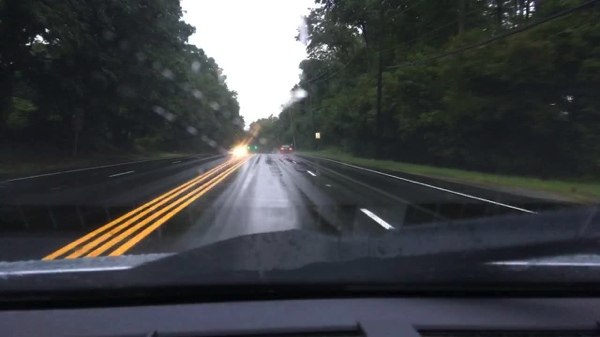car: (279, 145, 292, 154)
traffic light: (253, 143, 258, 149), (247, 144, 251, 149)
traffic sign: (315, 133, 320, 138)
